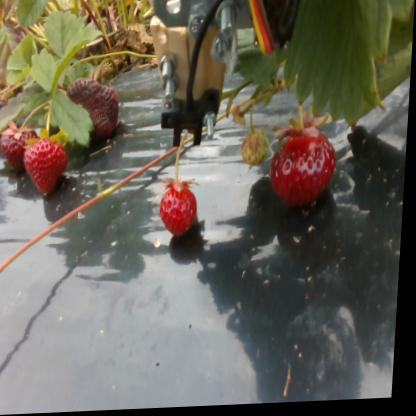ripe: (275, 131, 338, 208), (27, 136, 73, 195), (162, 183, 201, 237)
unripe: (245, 136, 268, 162)
